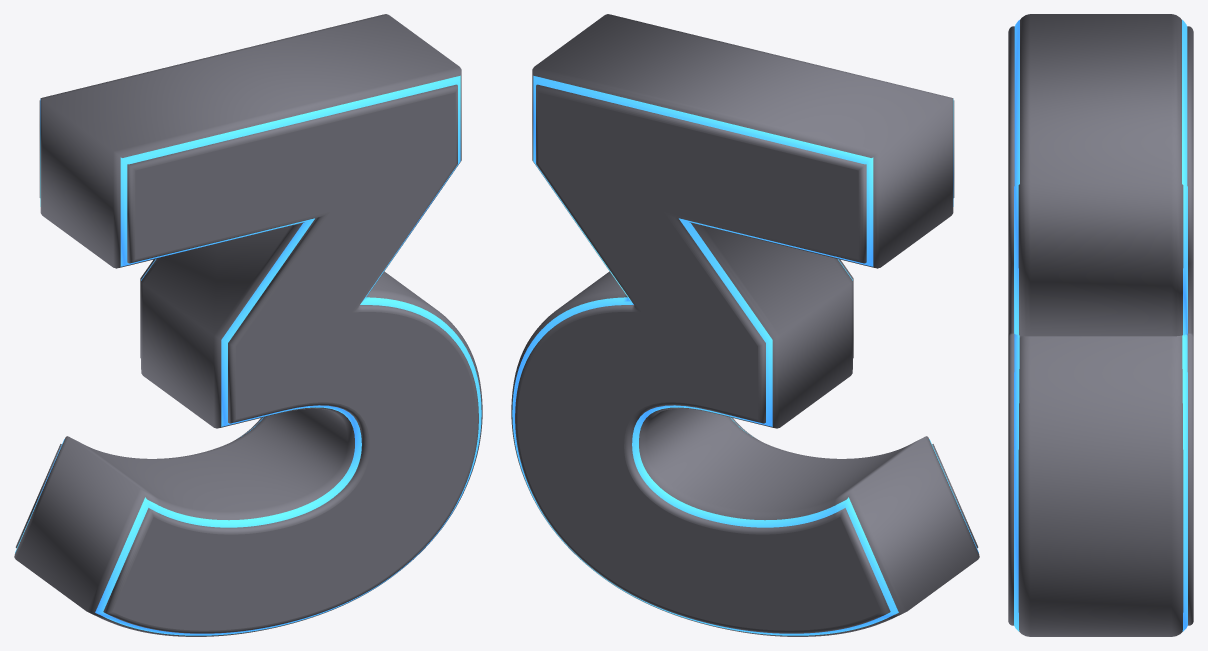
Rendered from three.glb.
3 views of the same model, side by side, from view 1: azimuth 30°, elevation 25°; view 2: azimuth 150°, elevation 25°; view 3: azimuth 270°, elevation 25° (orthographic).
Visible parts, largest first — view 1: N_3_smaller_2, N_3_side_1, N_3_border_0; view 2: N_3_smaller_2, N_3_side_1, N_3_border_0; view 3: N_3_side_1, N_3_smaller_2, N_3_border_0.
Part boxes in pixels (x1,y1,x2,y2): N_3_smaller_2: (15,84,478,633); N_3_side_1: (14,14,482,636); N_3_border_0: (15,75,481,635); N_3_smaller_2: (515,84,978,633); N_3_side_1: (511,14,979,636); N_3_border_0: (512,75,978,635); N_3_side_1: (1018,14,1183,636); N_3_smaller_2: (1008,26,1193,625); N_3_border_0: (1014,20,1187,631).
Size of the model in its own units: 0.4494 by 0.5606 by 0.184.
